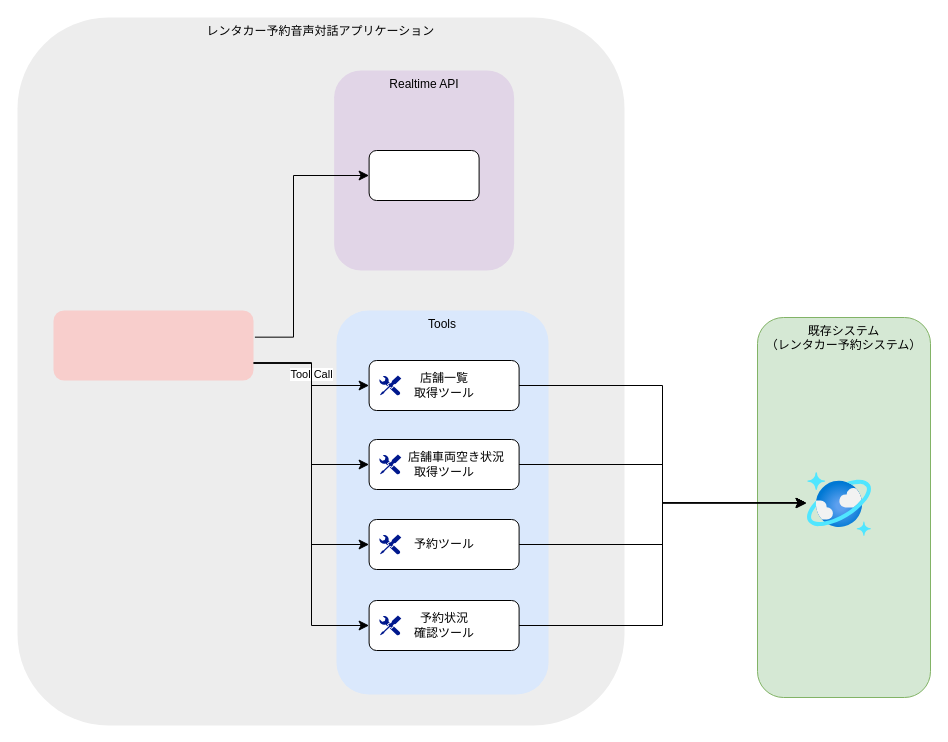
Some shapes in this 948 by 742 pixel diagram are drawn without their labels. The shapes that lost their labels are listed below. From the top down, each one's centre as x and y in pixels, then its label:
At pixel 423 175: "gpt-realtime".
At pixel 153 345: "音声対話UI".
At pixel 839 504: "CosmosDB".
